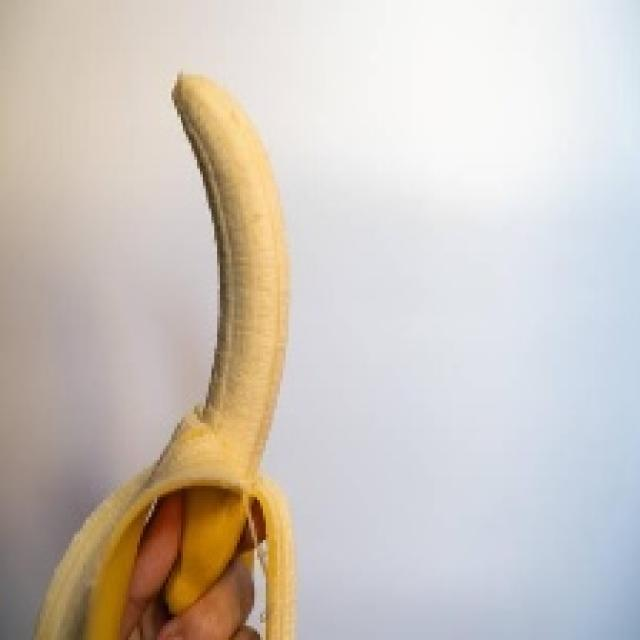Banana: (26, 69, 297, 637)
